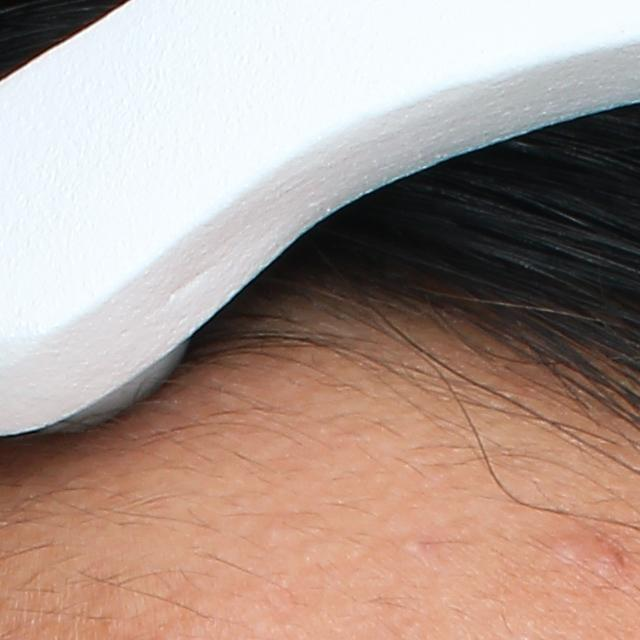papule: (586, 547, 627, 583)
